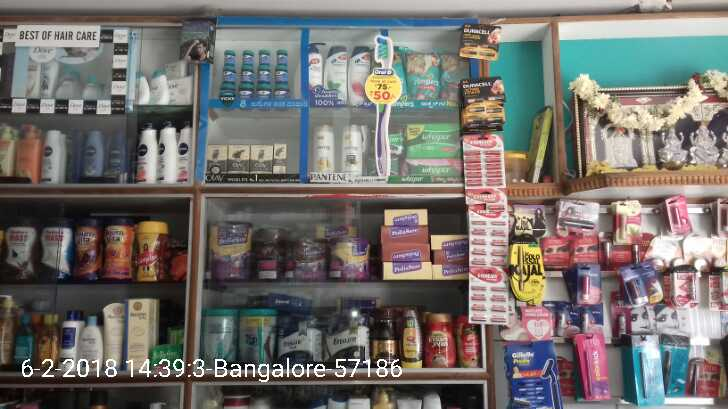beauty: (342, 125, 365, 176), (313, 122, 332, 175), (328, 48, 346, 98), (349, 50, 365, 100), (309, 47, 324, 100), (208, 146, 228, 178), (253, 146, 272, 175), (231, 147, 250, 175), (274, 144, 286, 173)
pharmacy: (403, 125, 460, 155), (408, 52, 438, 102), (400, 160, 463, 183), (440, 50, 466, 104), (219, 46, 237, 66), (274, 88, 290, 107), (257, 48, 271, 66), (221, 87, 236, 102), (274, 52, 290, 66), (242, 48, 253, 68), (274, 75, 289, 87), (220, 74, 235, 84), (242, 73, 253, 86), (258, 74, 269, 87), (239, 91, 250, 104)
